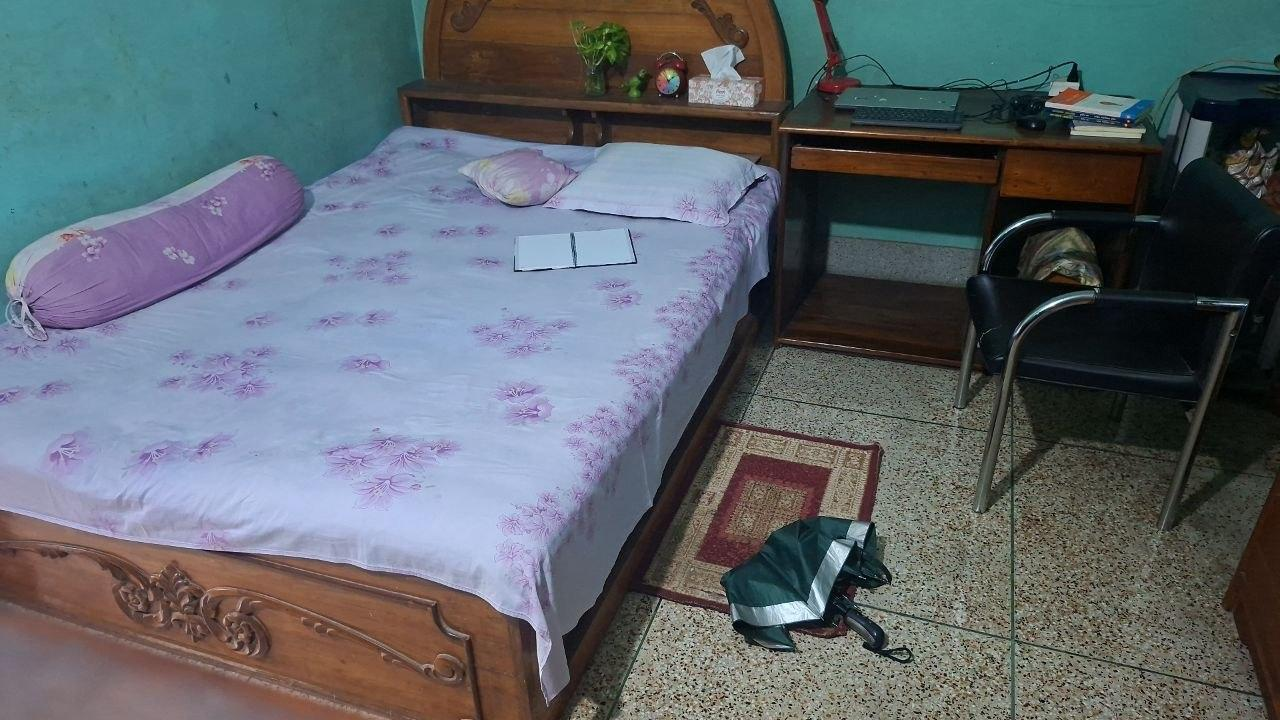Book: (1048, 84, 1163, 142)
Box: (685, 71, 760, 111)
Chair: (958, 159, 1280, 552)
Clock: (647, 50, 693, 102)
Floor Mat: (639, 418, 887, 624)
Keyboard: (837, 111, 973, 132)
Laptop: (833, 84, 967, 117)
Mouse: (998, 113, 1061, 138)
Notebook: (501, 221, 651, 276)
Pillow: (4, 150, 315, 332), (558, 144, 785, 223), (453, 146, 580, 207)
Plant: (568, 8, 631, 98)
Umbrella: (722, 507, 904, 664)
